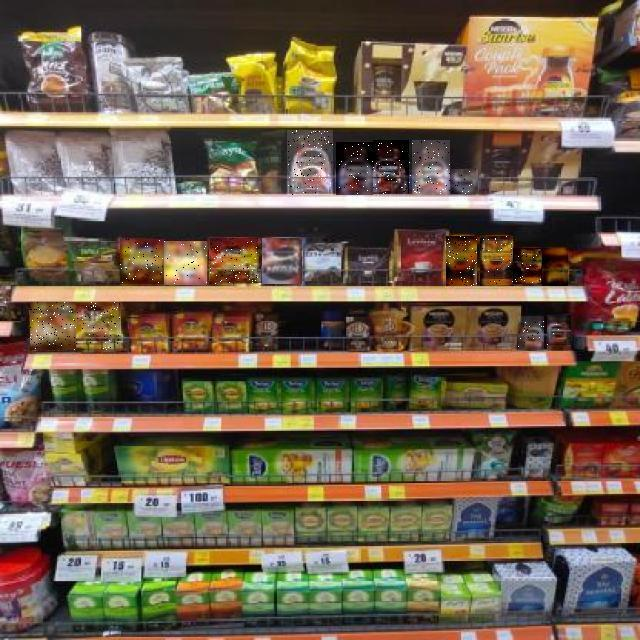Coffee: (287, 130, 333, 195), (211, 238, 259, 284), (75, 302, 121, 350), (30, 302, 76, 350), (412, 140, 450, 195), (120, 240, 165, 286), (374, 141, 412, 195), (336, 142, 373, 195), (164, 241, 207, 285), (263, 238, 303, 284), (480, 236, 514, 286), (446, 236, 477, 286), (513, 248, 542, 284), (543, 248, 569, 286), (519, 316, 545, 350), (547, 316, 571, 350), (451, 169, 478, 194)
